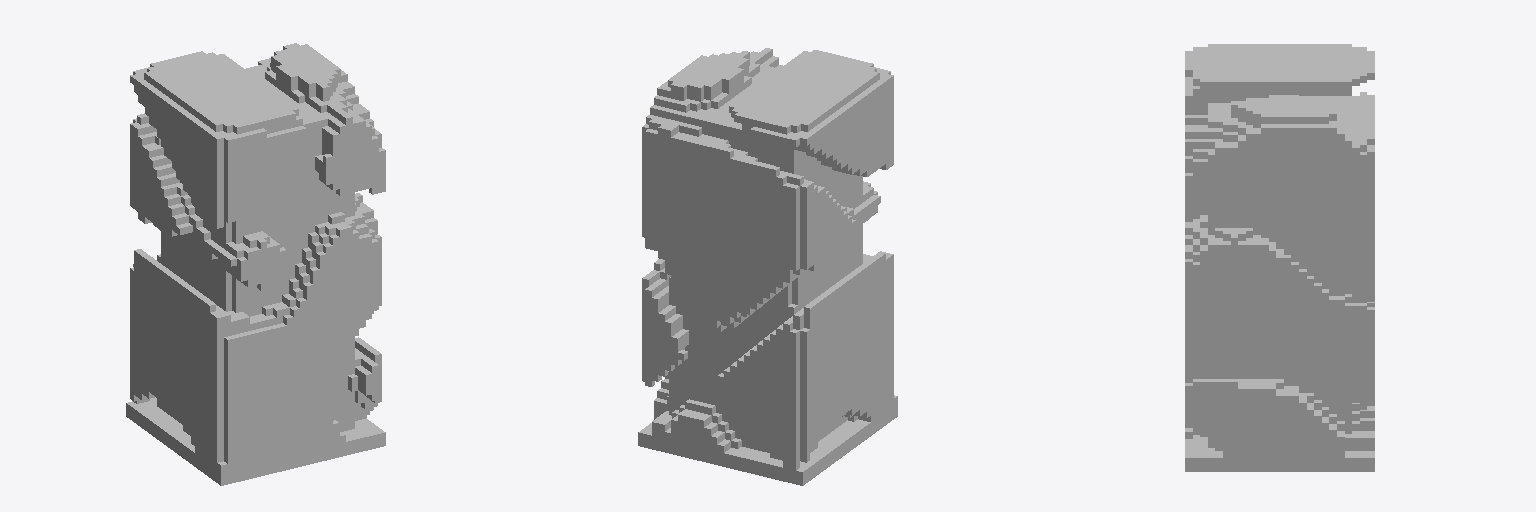
The model's file is Cave Wall.obj.
The picture shows the model from 3 angles: view 1: azimuth 30°, elevation 25°; view 2: azimuth 150°, elevation 25°; view 3: azimuth 270°, elevation 25°; orthographic projection.
Parts seen in each view (by area): view 1: object 1; view 2: object 1; view 3: object 1.
Boxes of the visible parts, x1,y1,x2,y2 form: object 1: [126, 43, 385, 485]; object 1: [638, 48, 897, 485]; object 1: [1185, 44, 1374, 471].
Size of the model in its own units: 2.5 by 5.1 by 2.5.